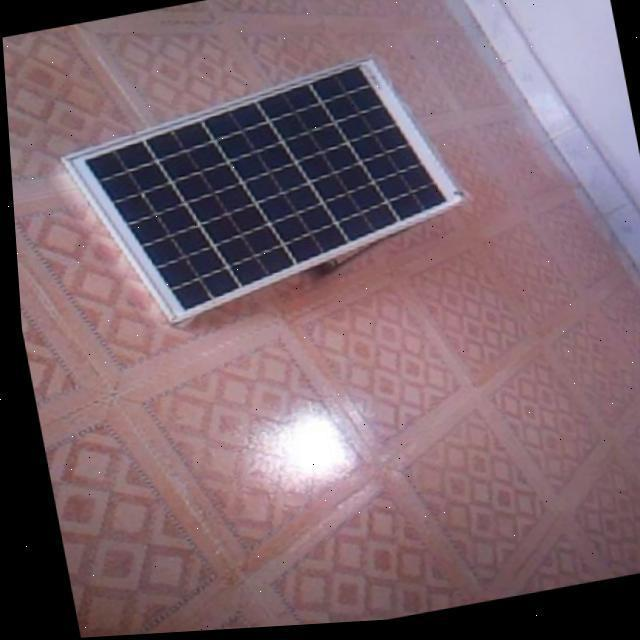Normal Solar Panel: (49, 48, 472, 336)
